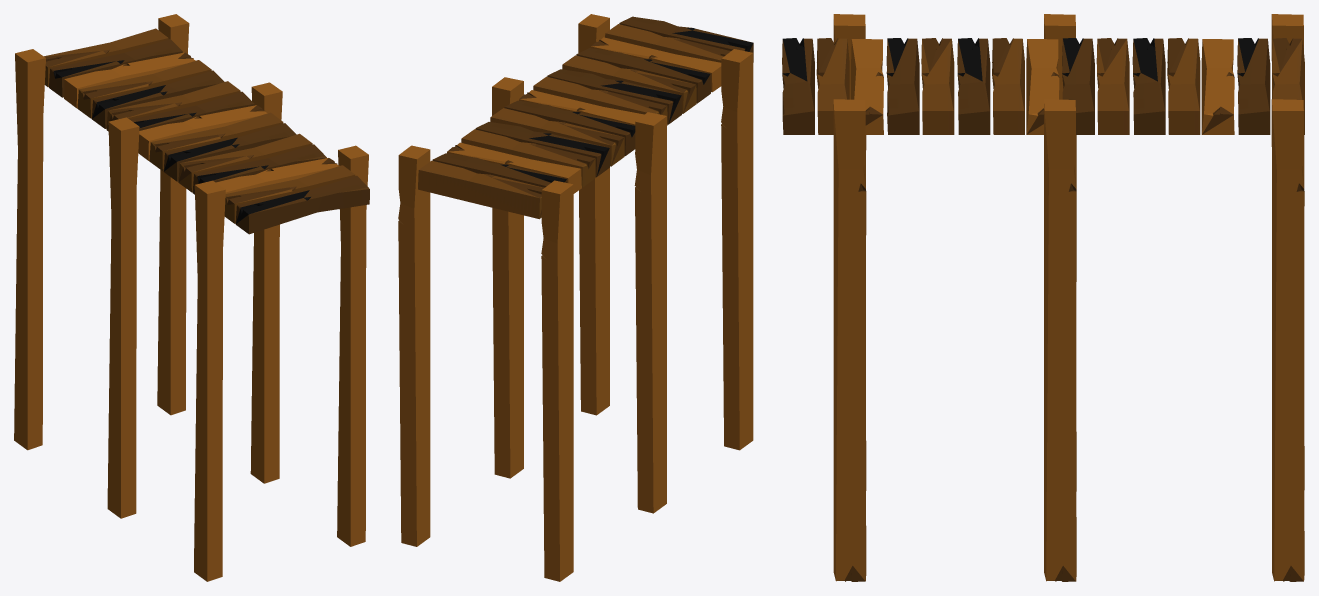
Rendered from PonteMadeiraG.glb.
The picture shows the model from 3 angles, left to right: view 1: azimuth 30°, elevation 25°; view 2: azimuth 150°, elevation 25°; view 3: azimuth 270°, elevation 25°; orthographic projection. The views are drawn at different scales.
Parts seen in each view (by area): view 1: PonteMadeiraG; view 2: PonteMadeiraG; view 3: PonteMadeiraG.
Boxes of the visible parts, bbox=[...] form: PonteMadeiraG: bbox=[14, 14, 369, 581]; PonteMadeiraG: bbox=[398, 14, 753, 581]; PonteMadeiraG: bbox=[782, 14, 1304, 581].
Bounding box in the file's own units: 2.61 × 5.95 × 5.97.
Materials: 1 (1 with a texture image).
